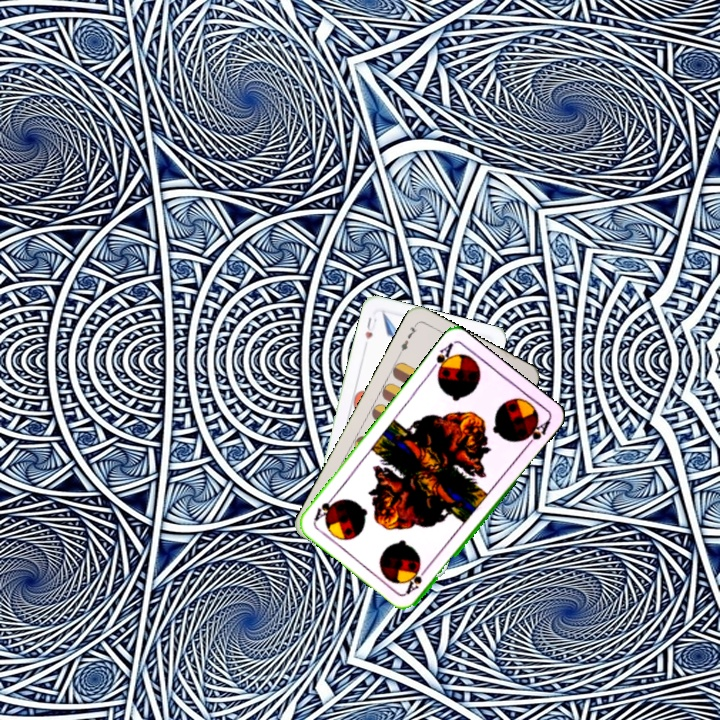E7: (395, 320, 419, 357)
HU: (361, 313, 379, 342)
SA: (426, 339, 457, 378), (402, 561, 432, 597)
